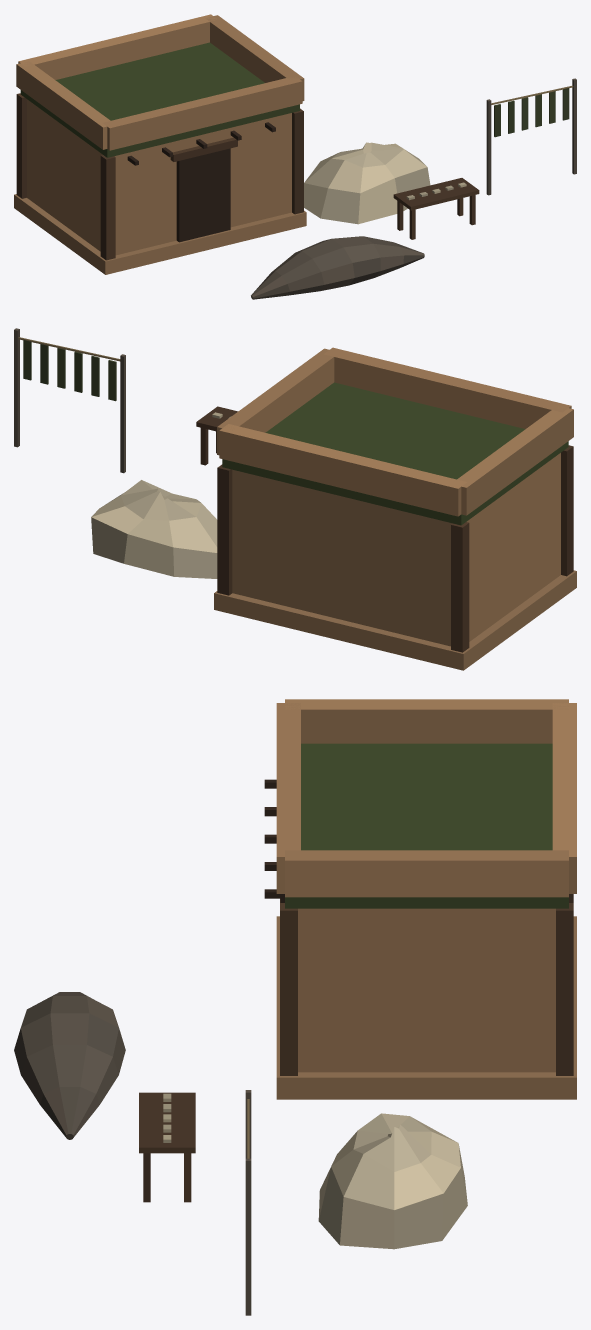
The model's file is walk_steppe_pearls.glb.
3 renders of one model, top to bottom at view 1: azimuth 30°, elevation 25°; view 2: azimuth 150°, elevation 25°; view 3: azimuth 270°, elevation 25°, orthographic. The views are drawn at different scales.
Visible parts, largest first — view 1: walk_steppe_pearls, walk_steppe_pearls_roof; view 2: walk_steppe_pearls, walk_steppe_pearls_roof; view 3: walk_steppe_pearls, walk_steppe_pearls_roof.
Part boxes in pixels (x1,y1,x2,y2): walk_steppe_pearls: (14, 78, 576, 299); walk_steppe_pearls_roof: (16, 14, 304, 157); walk_steppe_pearls: (14, 328, 576, 670); walk_steppe_pearls_roof: (217, 347, 573, 525); walk_steppe_pearls: (14, 779, 576, 1315); walk_steppe_pearls_roof: (276, 699, 576, 908).
Size of what is drawn, in the model's own units: 10.79 by 3.78 by 6.94.
1 material, 1 textured.
